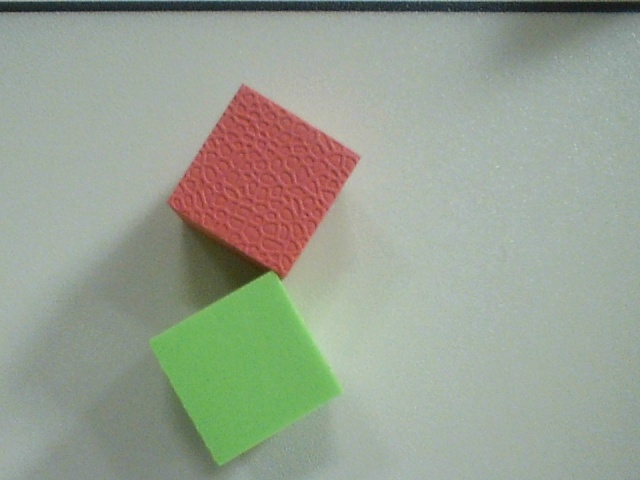greencube: (135, 266, 355, 477)
